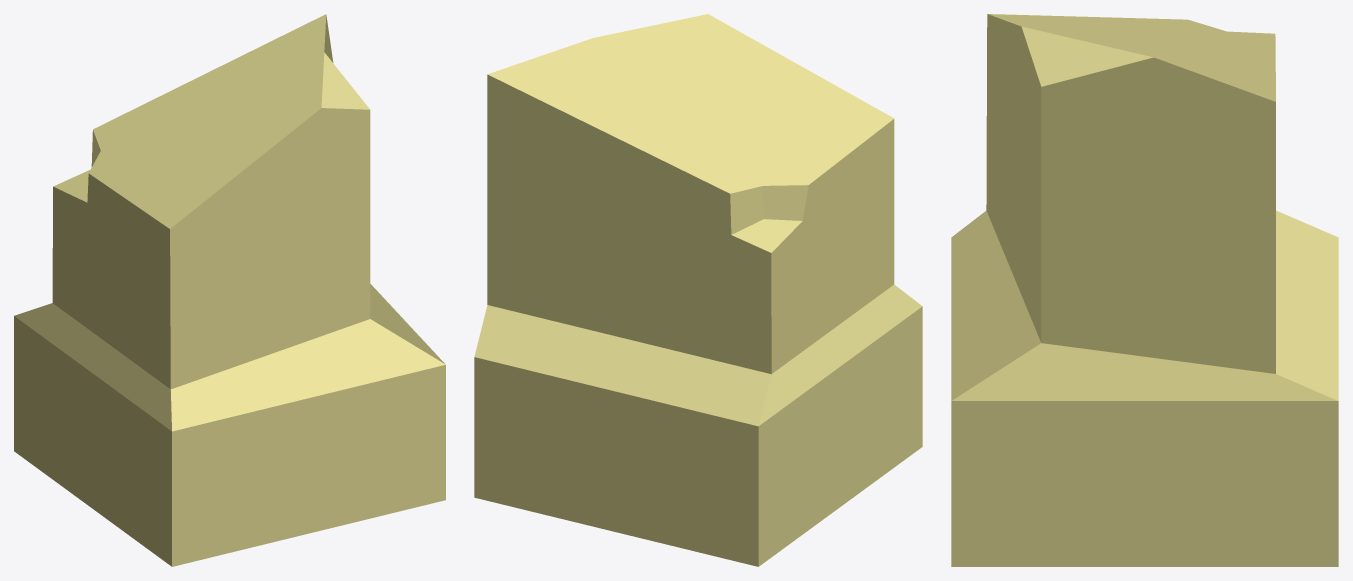
The model's file is pillar1.obj.
The picture shows the model from 3 angles, left to right: view 1: azimuth 30°, elevation 25°; view 2: azimuth 150°, elevation 25°; view 3: azimuth 270°, elevation 25°; orthographic projection. The views are drawn at different scales.
Visible parts, largest first — view 1: pilla1; view 2: pilla1; view 3: pilla1.
Part boxes in pixels (left/top/right/bottom): pilla1: left=14, top=14, right=445, bottom=566; pilla1: left=474, top=14, right=922, bottom=566; pilla1: left=951, top=14, right=1338, bottom=566.
Size of the model in its own units: 1.65 by 2.19 by 1.58.
